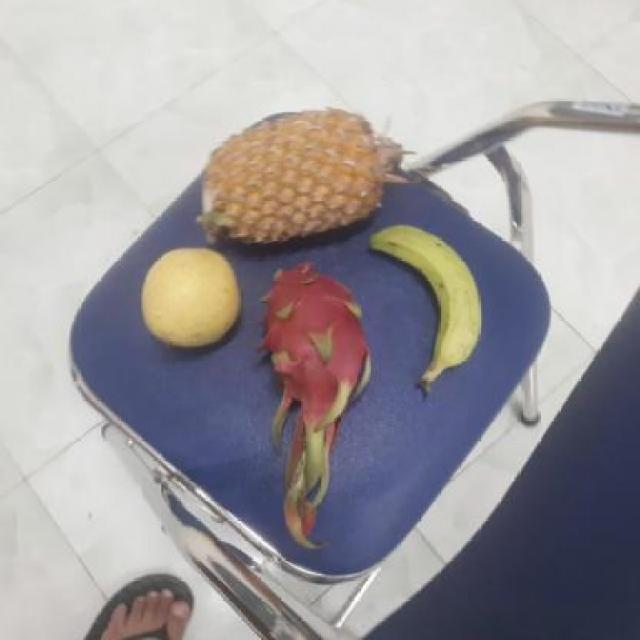banana: (364, 225, 484, 368)
dragon fruit: (256, 261, 372, 414)
pineapple: (196, 111, 392, 252)
